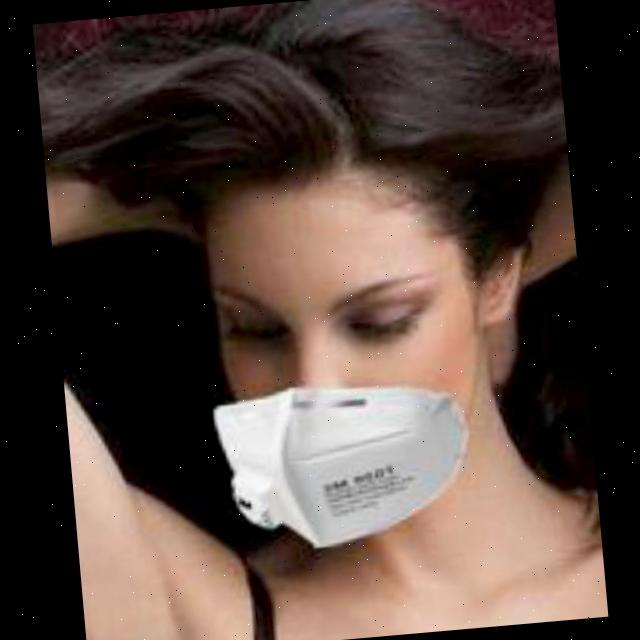suspicion: (168, 125, 497, 545)
